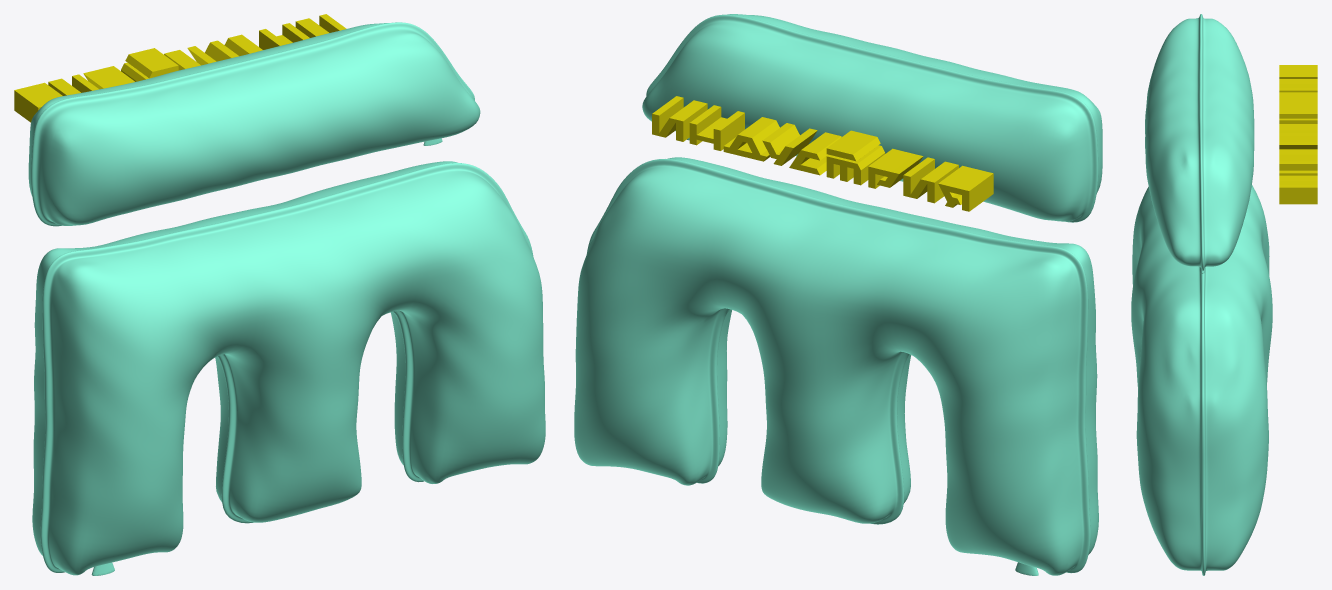
Rendered from выдавлено.glb.
3 views of the same model, side by side, from view 1: azimuth 30°, elevation 25°; view 2: azimuth 150°, elevation 25°; view 3: azimuth 270°, elevation 25° (orthographic). The views are drawn at different scales.
Visible parts, largest first — view 1: Inflatable_letter.001, Curve; view 2: Inflatable_letter.001, Curve; view 3: Inflatable_letter.001, Curve.
Boxes of the visible parts, x1=… form: Inflatable_letter.001: x1=28, y1=22, x2=545, y2=575; Curve: x1=14, y1=14, x2=346, y2=122; Inflatable_letter.001: x1=574, y1=14, x2=1102, y2=575; Curve: x1=652, y1=96, x2=993, y2=211; Inflatable_letter.001: x1=1131, y1=14, x2=1272, y2=575; Curve: x1=1279, y1=65, x2=1317, y2=204.
Size of the model in its own units: 207 by 188 by 81.85.
